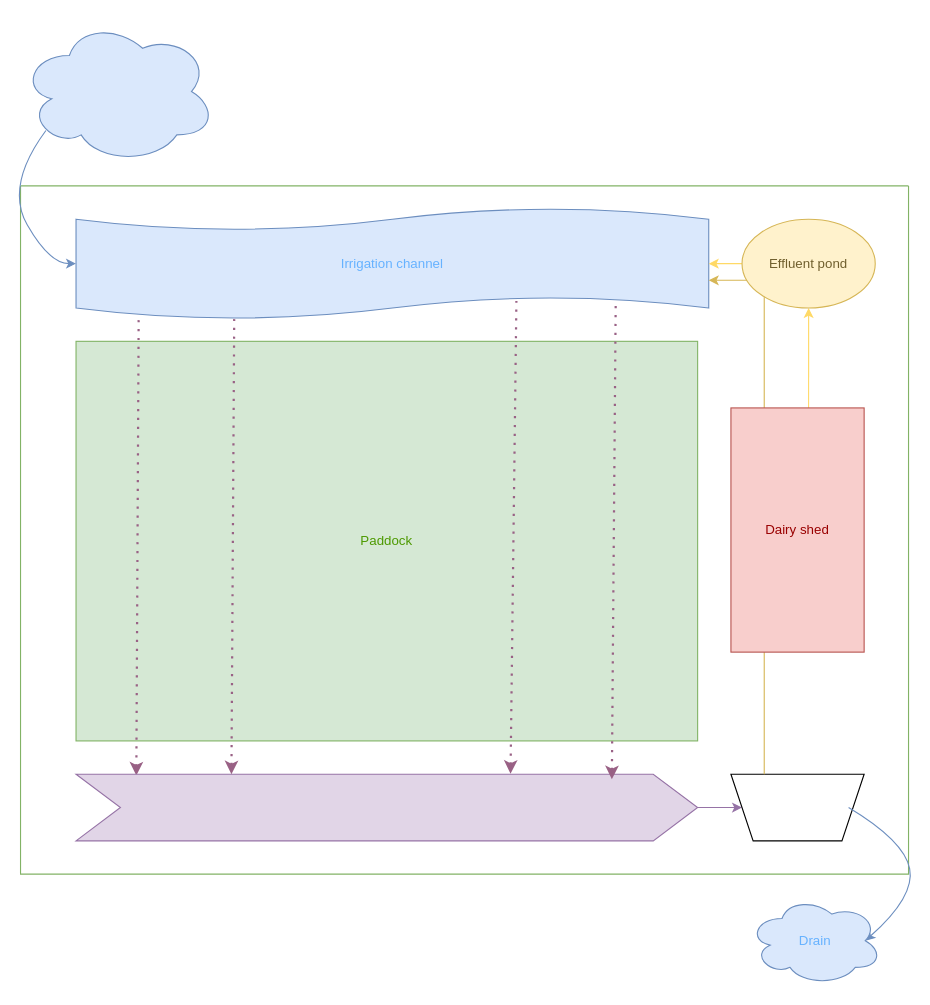
This 930x1005 diagram has some shape labels left out. Here are the shapes that lost their labels. From the top down, the centre of each, then its label:
At (x=117, y=91): "Lake Glenmaggie".
At (x=386, y=807): "Runoff channel".
At (x=797, y=807): "Reuse system".
